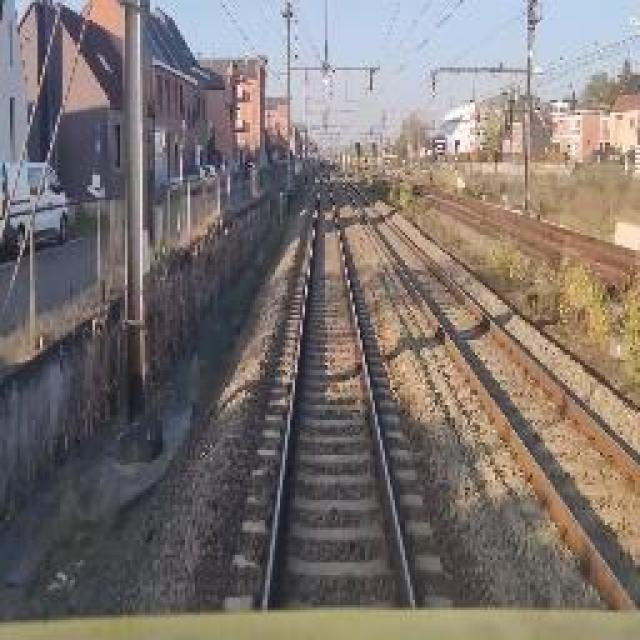rail: (332, 174, 640, 614), (221, 170, 449, 612)
